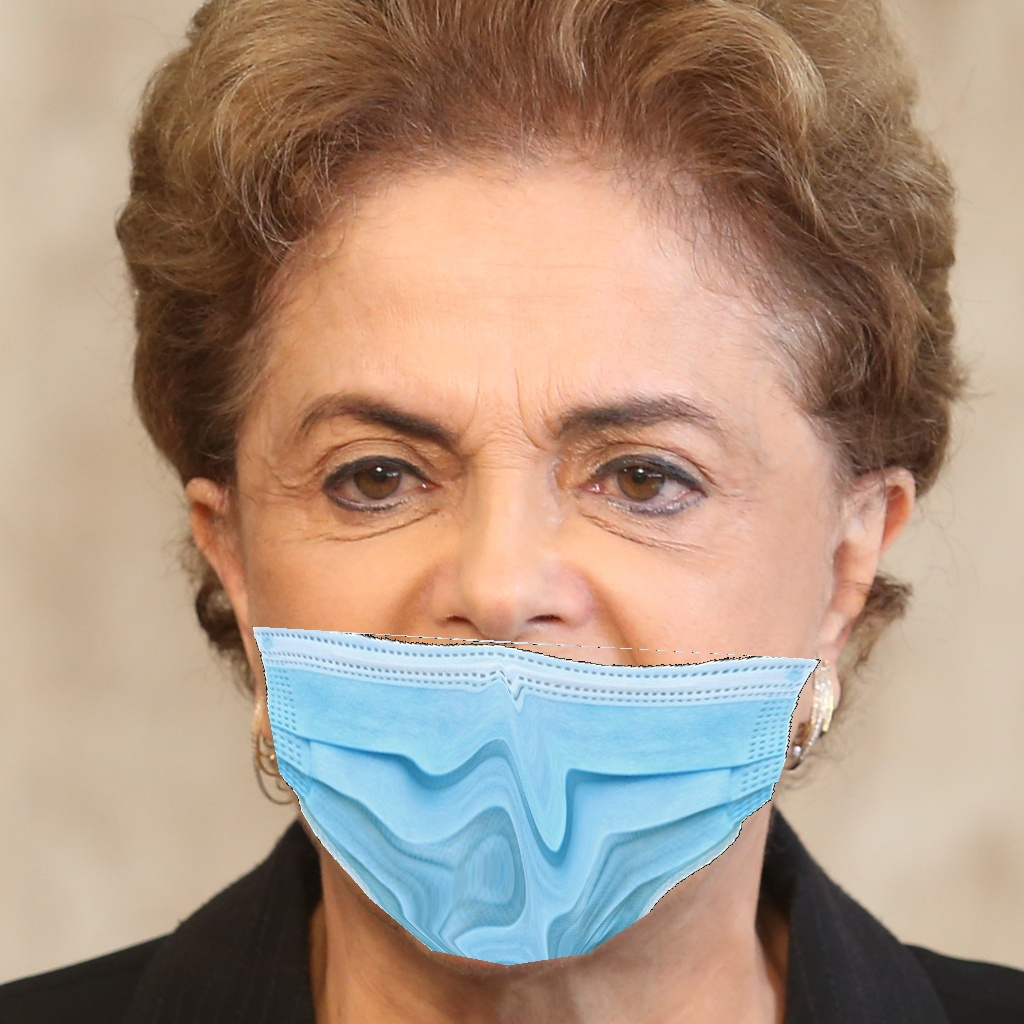mascarilla_mal_puesta: (174, 355, 832, 1008)
